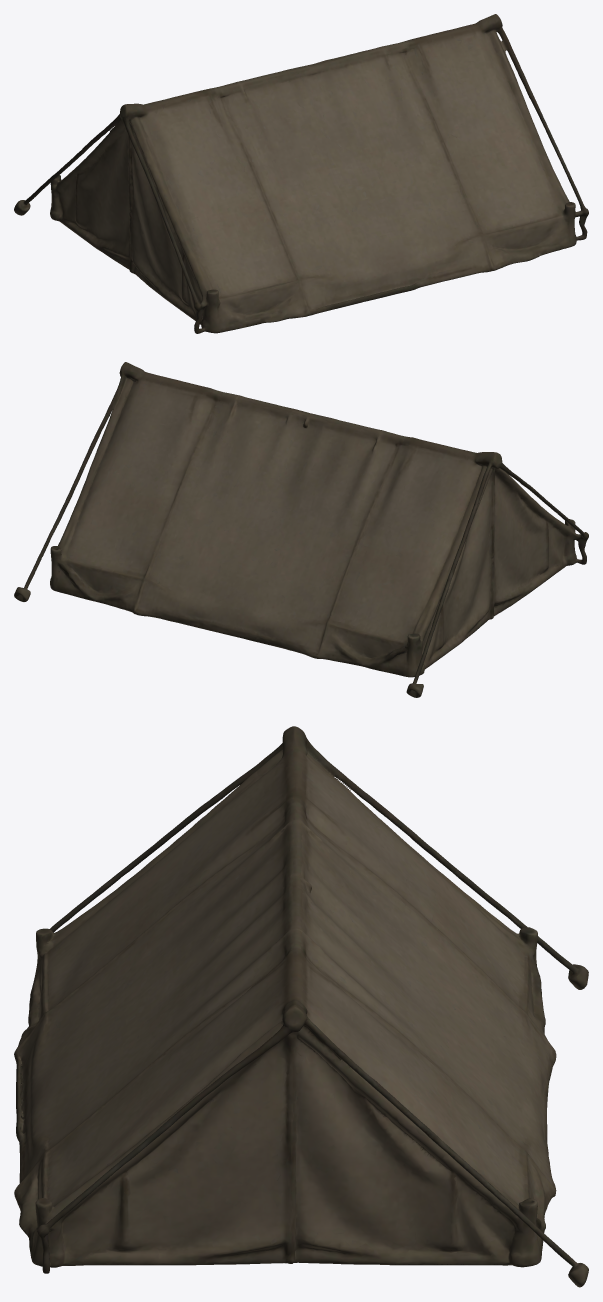
File: tent-proto.glb
3 views of the same model, one above another, from view 1: azimuth 30°, elevation 25°; view 2: azimuth 150°, elevation 25°; view 3: azimuth 270°, elevation 25° (orthographic). The views are drawn at different scales.
Bounding box in the file's own units: 1 × 0.4117 × 0.7896.
1 material, 1 textured.
